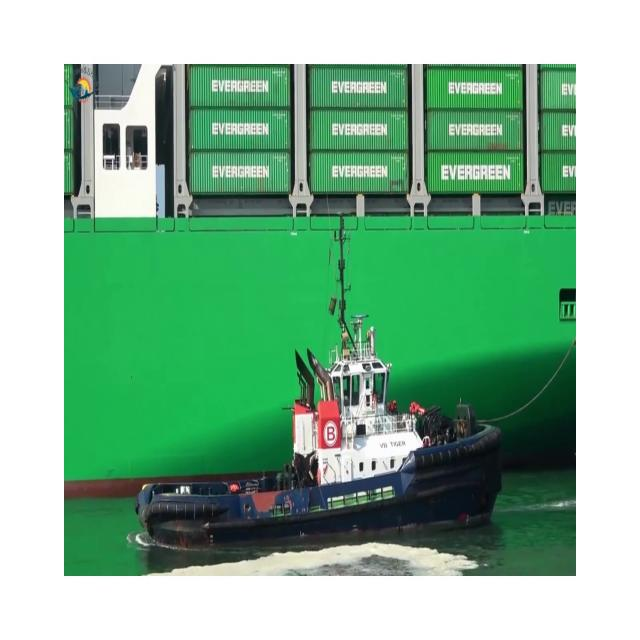OCR: (321, 155, 399, 184)
